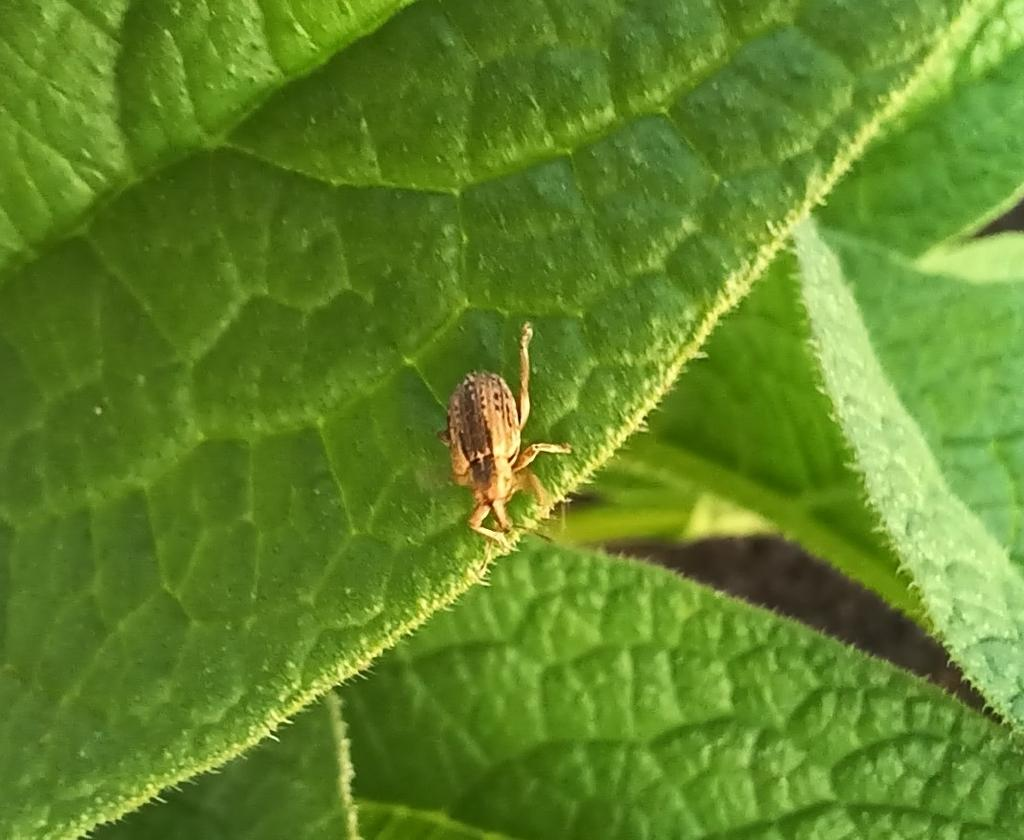weevils: (399, 290, 604, 585)
